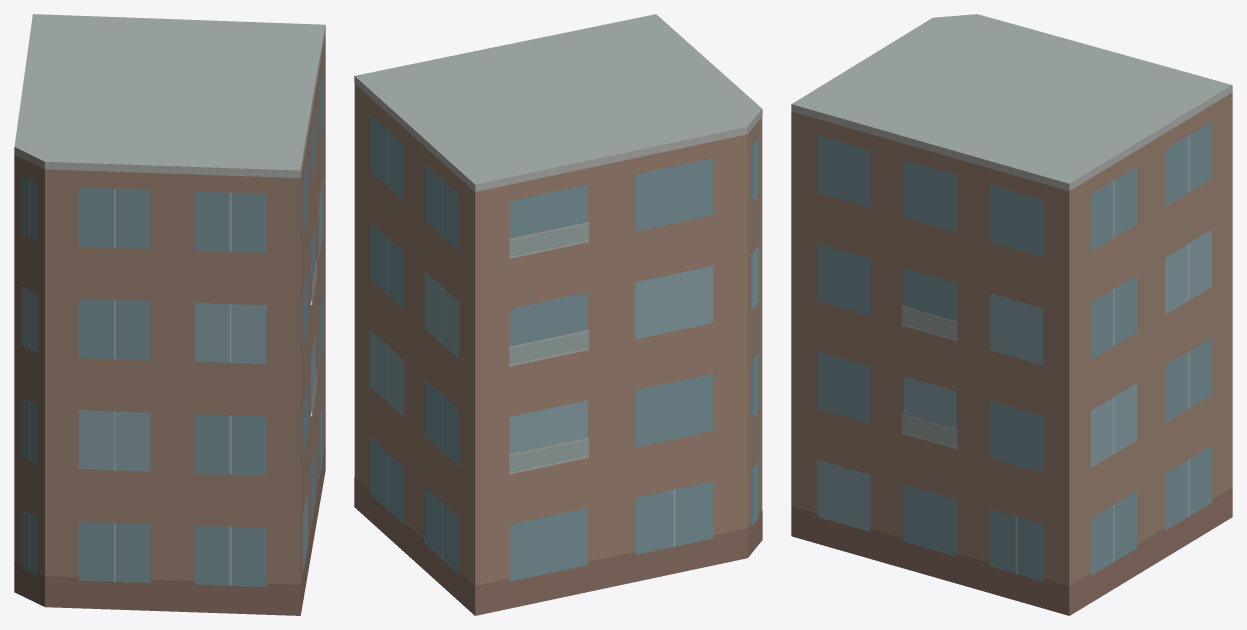
File: survey-upis-32518646.glb
3 views of the same model, side by side, from view 1: azimuth 30°, elevation 25°; view 2: azimuth 150°, elevation 25°; view 3: azimuth 270°, elevation 25° (orthographic). The views are drawn at different scales.
Visible parts, largest first — view 1: survey-upis-32518646.tmp; view 2: survey-upis-32518646.tmp; view 3: survey-upis-32518646.tmp.
Part boxes in pixels (x1,y1,x2,y2): survey-upis-32518646.tmp: [14, 14, 325, 615]; survey-upis-32518646.tmp: [354, 14, 762, 615]; survey-upis-32518646.tmp: [791, 14, 1232, 615].
Bounding box in the file's own units: 12.06 × 14.3 × 13.24.
